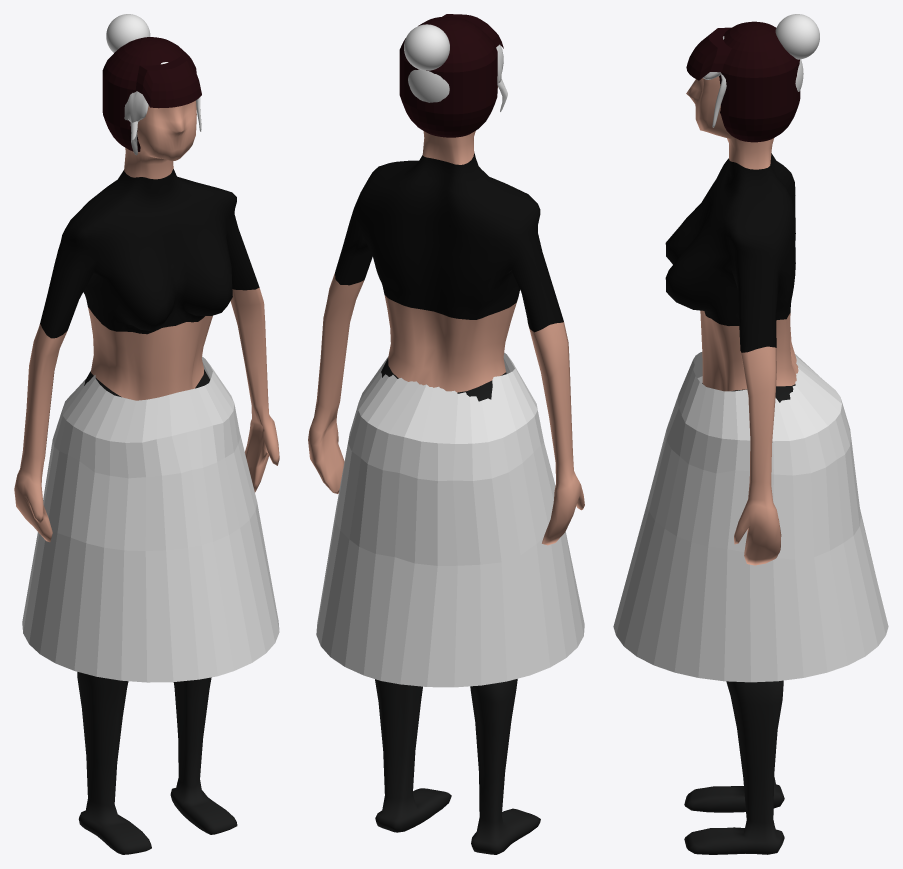
The model's file is kasirka.fbx.
3 renders of one model, left to right at view 1: azimuth 30°, elevation 25°; view 2: azimuth 150°, elevation 25°; view 3: azimuth 270°, elevation 25°, orthographic. The views are drawn at different scales.
Parts seen in each view (by area): view 1: Cylinder, Cube, Sphere.001, Cube.001; view 2: Cylinder, Cube, Sphere.001, Cube.001; view 3: Cylinder, Cube, Sphere.001, Cube.001.
Boxes of the visible parts, x1,y1,x2,y2 form: Cylinder: [22, 356, 279, 682]; Cube: [14, 100, 279, 854]; Sphere.001: [102, 37, 201, 151]; Cube.001: [106, 14, 201, 155]; Cylinder: [316, 352, 584, 687]; Cube: [308, 86, 584, 854]; Sphere.001: [399, 14, 503, 137]; Cube.001: [404, 24, 507, 111]; Cylinder: [613, 352, 888, 682]; Cube: [665, 76, 798, 854]; Sphere.001: [686, 21, 800, 142]; Cube.001: [703, 14, 819, 127].
Size of the model in its own units: 219 by 652 by 200.
